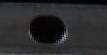holes: (27, 14, 69, 46)
